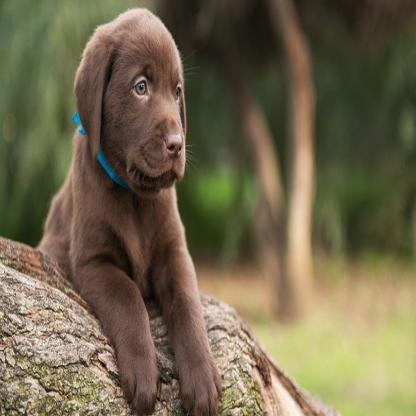dog: (41, 7, 222, 416)
